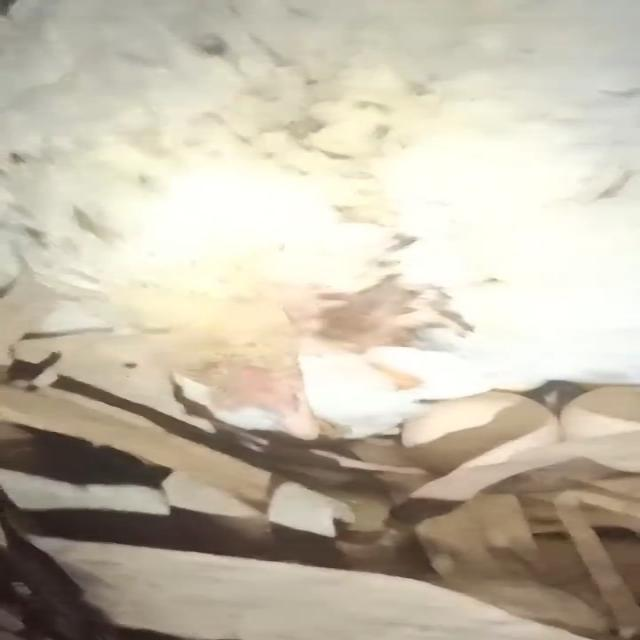crouch chicken: (2, 0, 640, 443)
